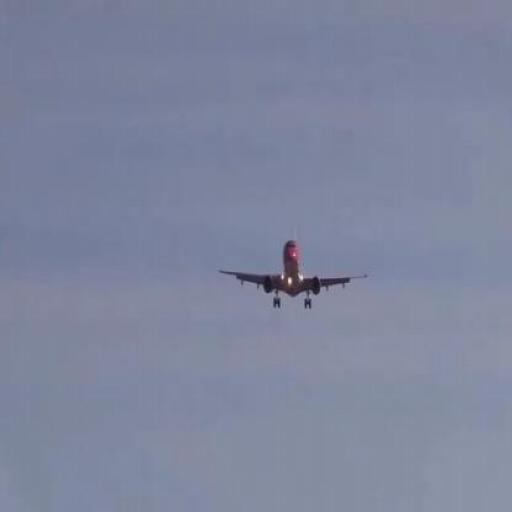aircraft: (219, 217, 371, 309)
